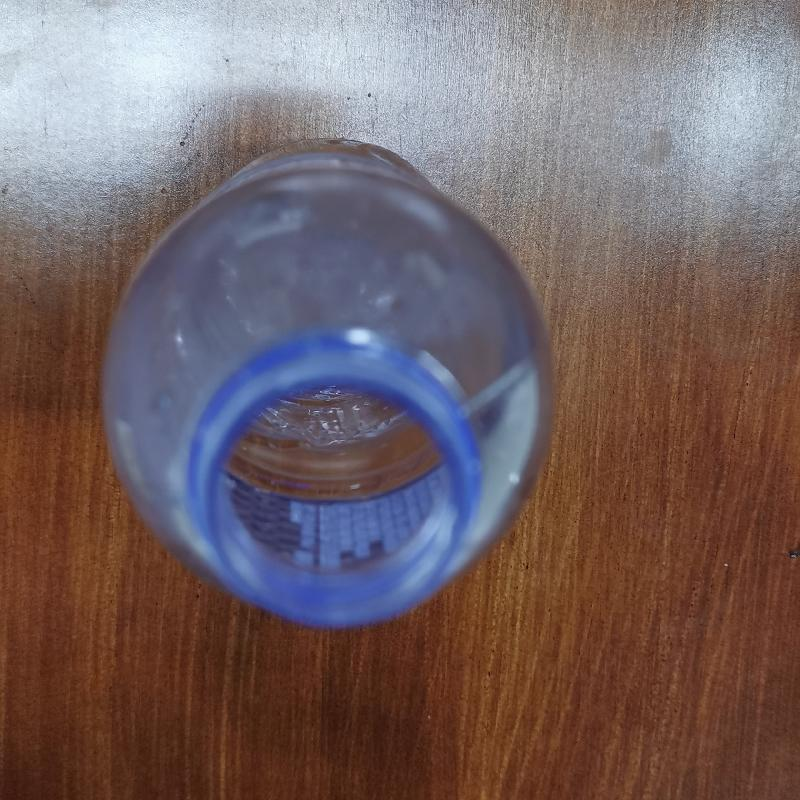bottles: (95, 140, 562, 635)
